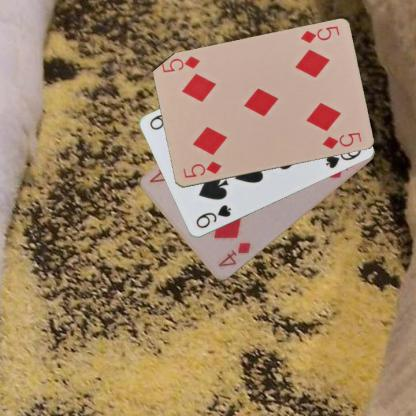4d: (215, 240, 252, 269)
5d: (180, 159, 223, 180), (298, 24, 340, 45)
9s: (193, 202, 232, 230)
